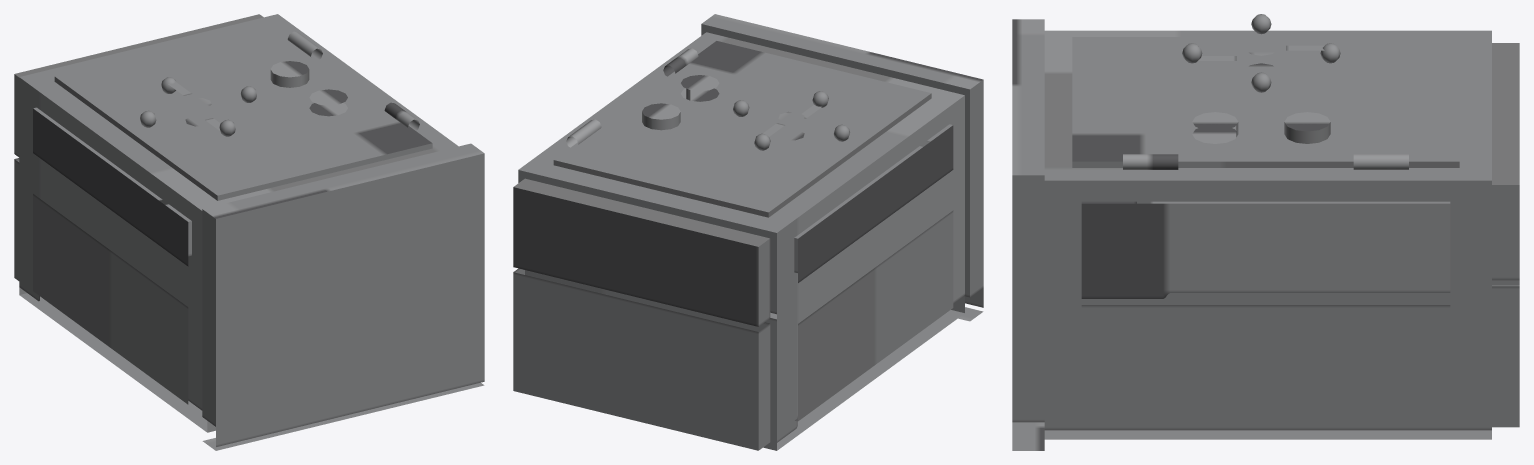
3 renders of one model, left to right at view 1: azimuth 30°, elevation 25°; view 2: azimuth 150°, elevation 25°; view 3: azimuth 270°, elevation 25°, orthographic. The views are drawn at different scales.
Bounding box in the file's own units: 0.818 × 0.722 × 1.1.
